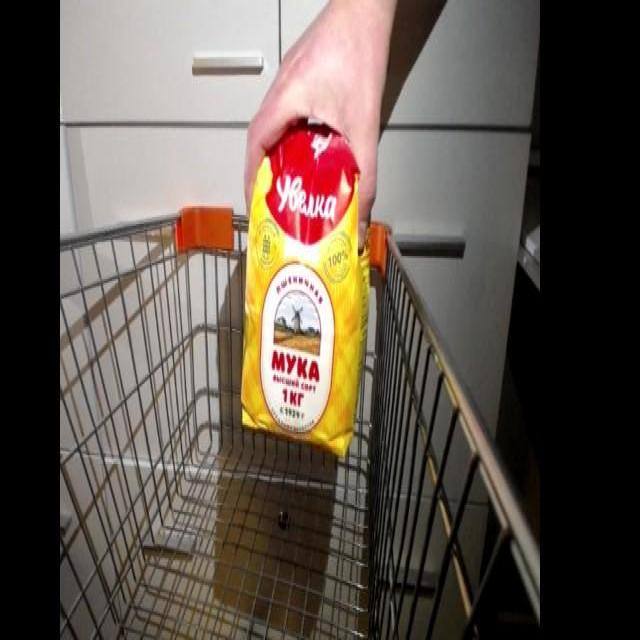Flour: (238, 124, 368, 453)
